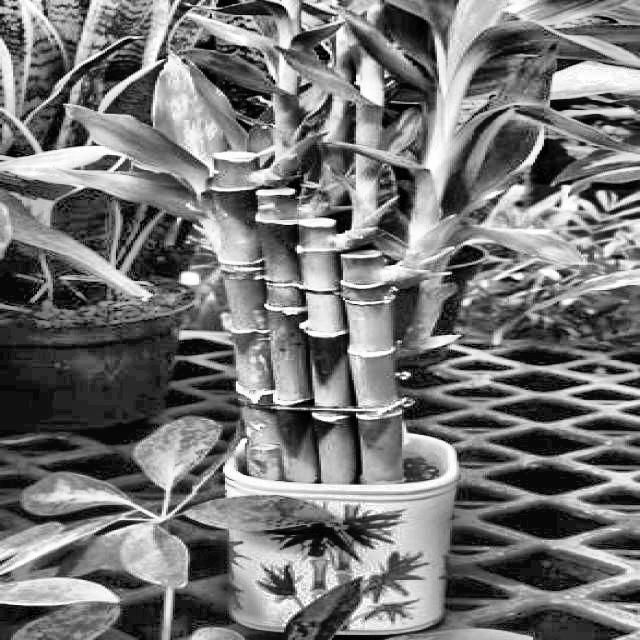plants: (132, 125, 490, 636)
